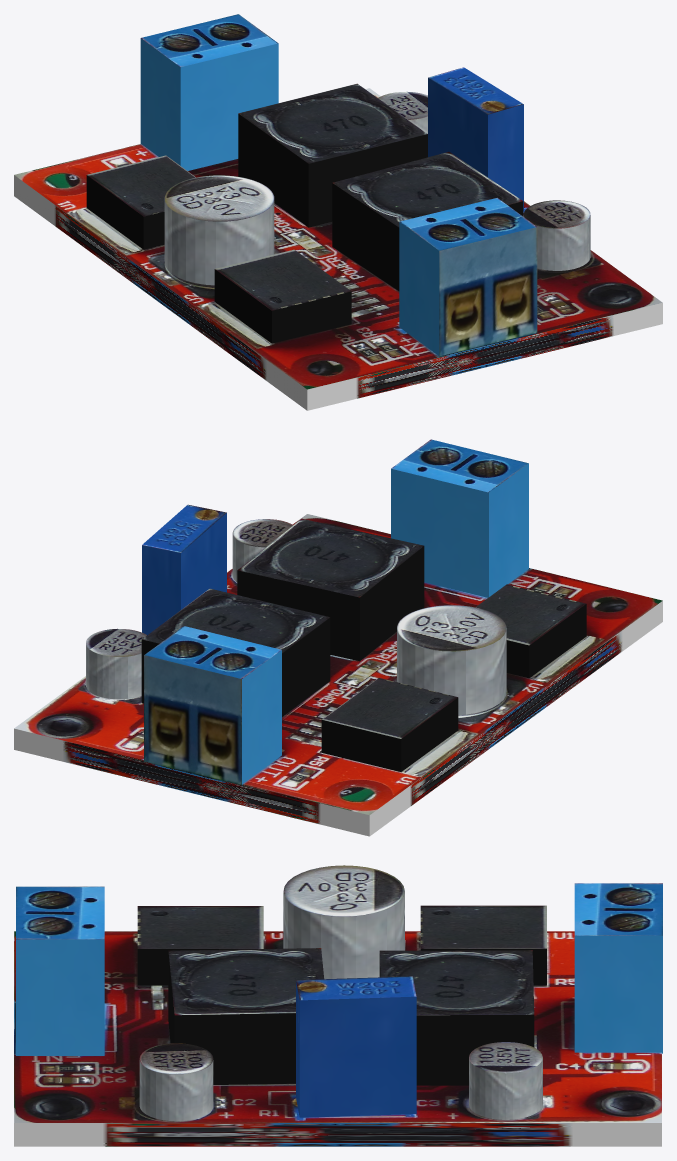
Rendered from dc_converter.dae.
3 views of the same model, one above another, from view 1: azimuth 30°, elevation 25°; view 2: azimuth 150°, elevation 25°; view 3: azimuth 270°, elevation 25° (orthographic). The views are drawn at different scales.
Visible parts, largest first — view 1: Cube, Cube_006, Cube_007, Cube_002, Cube_001, Cylinder, Cube_004, Cube_005, Cube_003, Cylinder_002, Cylinder_001; view 2: Cube, Cube_007, Cube_006, Cube_001, Cylinder, Cube_002, Cube_003, Cube_005, Cube_004, Cylinder_001, Cylinder_002; view 3: Cube, Cube_005, Cube_001, Cube_007, Cube_006, Cube_002, Cylinder, Cube_004, Cube_003, Cylinder_002, Cylinder_001.
Part boxes in pixels (x1,y1,x2,y2): Cube: [14, 88, 662, 410]; Cube_006: [399, 197, 537, 356]; Cube_007: [140, 14, 278, 170]; Cube_002: [238, 83, 427, 227]; Cube_001: [332, 151, 523, 290]; Cylinder: [164, 175, 274, 285]; Cube_004: [214, 249, 351, 343]; Cube_005: [428, 67, 523, 210]; Cube_003: [86, 155, 195, 249]; Cylinder_002: [523, 200, 590, 270]; Cylinder_001: [378, 91, 427, 133]; Cube: [14, 514, 662, 836]; Cube_007: [144, 626, 281, 785]; Cube_006: [391, 439, 528, 597]; Cube_001: [237, 518, 424, 661]; Cylinder: [397, 605, 506, 714]; Cube_002: [141, 588, 330, 716]; Cube_003: [321, 678, 458, 771]; Cube_005: [142, 504, 226, 635]; Cube_004: [475, 584, 586, 678]; Cylinder_001: [86, 628, 146, 699]; Cylinder_002: [232, 519, 292, 582]; Cube: [14, 931, 661, 1146]; Cube_005: [296, 976, 416, 1117]; Cube_001: [168, 948, 324, 1084]; Cube_007: [574, 883, 662, 1053]; Cube_006: [16, 886, 104, 1055]; Cube_002: [379, 950, 534, 1085]; Cylinder: [283, 865, 404, 979]; Cube_004: [137, 906, 263, 985]; Cube_003: [420, 905, 546, 985]; Cylinder_002: [139, 1043, 213, 1121]; Cylinder_001: [469, 1042, 542, 1119].
Size of the model in its own units: 0.35 by 0.5008 by 0.1199.
Materials: 18 (14 with a texture image).
